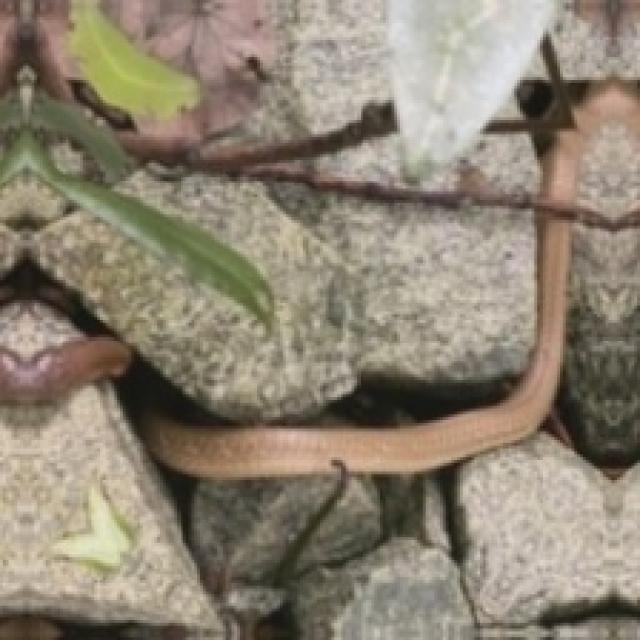king cobra: (137, 34, 637, 477)
